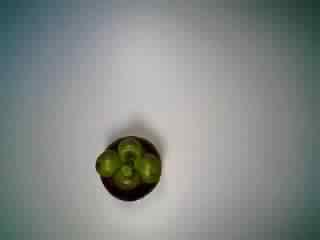mangosteen: (90, 134, 164, 204)
